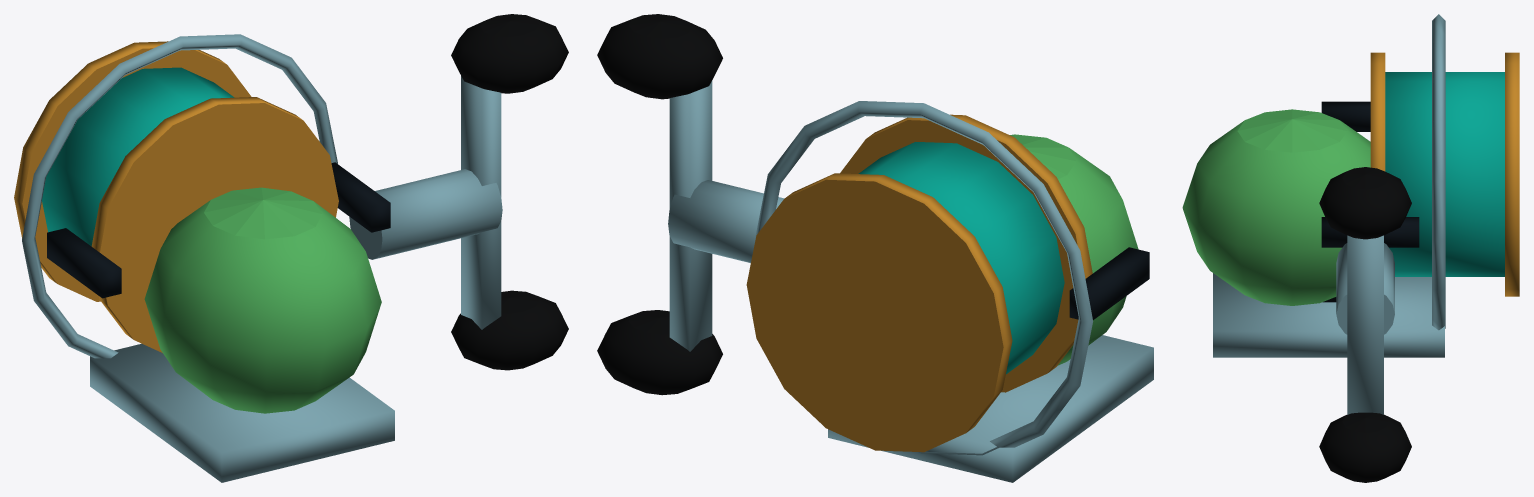
File: spinning.glb
3 views of the same model, side by side, from view 1: azimuth 30°, elevation 25°; view 2: azimuth 150°, elevation 25°; view 3: azimuth 270°, elevation 25° (orthographic). The views are drawn at different scales.
Parts seen in each view (by area): view 1: Body, Spool, Crank; view 2: Spool, Body, Crank; view 3: Body, Spool, Crank.
Boxes of the visible parts, x1,y1,x2,y2 form: Body: [22, 34, 394, 482]; Spool: [14, 41, 338, 352]; Crank: [349, 14, 568, 370]; Spool: [746, 114, 1092, 452]; Body: [755, 101, 1153, 482]; Crank: [597, 14, 784, 395]; Body: [1182, 14, 1445, 357]; Spool: [1370, 52, 1519, 296]; Crank: [1319, 167, 1411, 482].
Size of the model in its own units: 2.08 by 1.46 by 1.38.
Materials: 1 (1 with a texture image).
